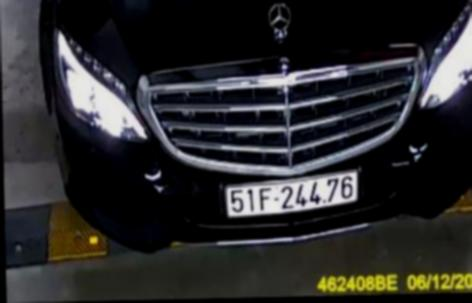License_Plate: (218, 172, 364, 224)
